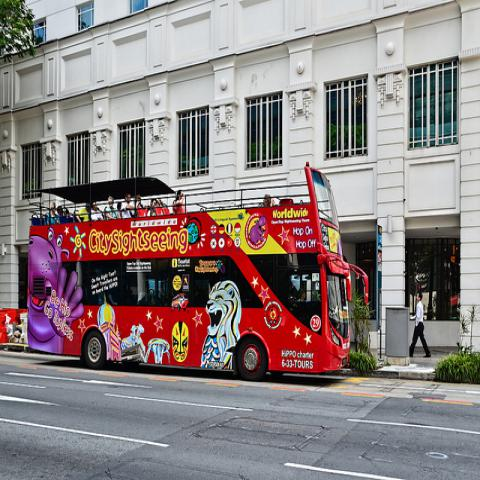bus: (28, 166, 370, 382)
